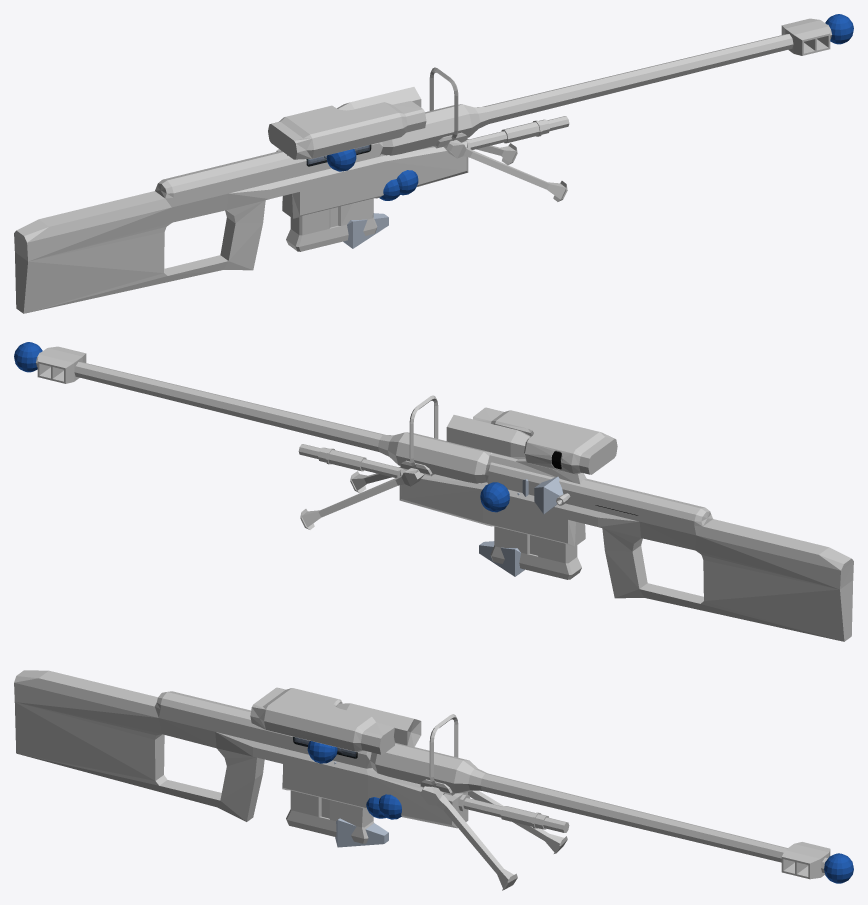
Rendered from Sniper Rifle.obj.
3 views of the same model, one above another, from view 1: azimuth 30°, elevation 25°; view 2: azimuth 150°, elevation 25°; view 3: azimuth 330°, elevation 25° (orthographic).
Visible parts, largest first — view 1: __unnamed, frame_magazine, _primary_trigger; view 2: __unnamed, frame_magazine, frame_ophandle, _ground_point, _primary_trigger; view 3: __unnamed, frame_magazine, _primary_trigger, _primary_ejection, _left_hand_cyborg.
Part boxes in pixels (bbox=[...]): __unnamed: bbox=[14, 18, 831, 313]; frame_magazine: bbox=[343, 213, 388, 248]; _primary_trigger: bbox=[825, 14, 853, 44]; __unnamed: bbox=[36, 346, 853, 641]; frame_magazine: bbox=[479, 541, 524, 576]; frame_ophandle: bbox=[534, 476, 563, 514]; _ground_point: bbox=[480, 482, 509, 512]; _primary_trigger: bbox=[14, 342, 42, 372]; __unnamed: bbox=[14, 670, 830, 890]; frame_magazine: bbox=[335, 818, 388, 847]; _primary_trigger: bbox=[824, 853, 853, 883]; _primary_ejection: bbox=[307, 741, 337, 763]; _left_hand_cyborg: bbox=[378, 794, 401, 819].
Size of the model in its own units: 63.26 by 10.72 by 7.78.
